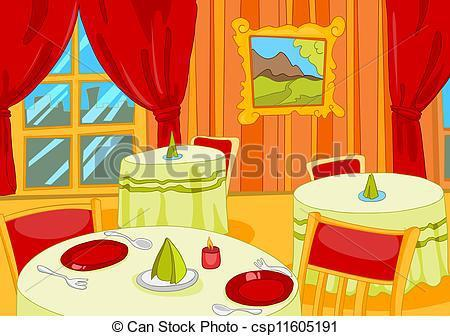diningtable: (281, 170, 449, 302), (112, 142, 246, 237)
